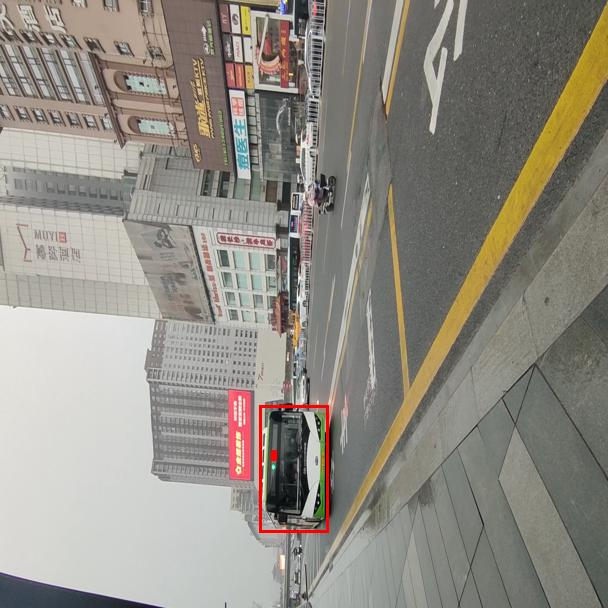bus: (259, 405, 328, 532)
screen: (271, 450, 276, 460)
